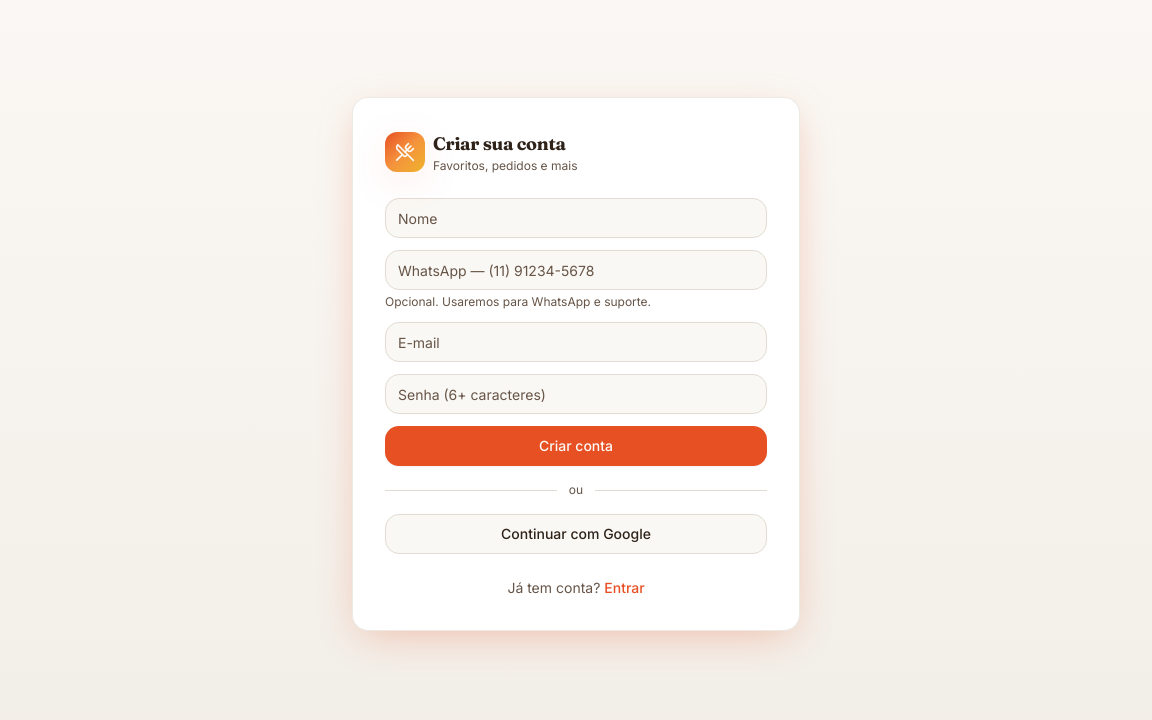
Test: Cadastro — double-click guard on network failure › only calls signUp once even when clicked many times during a slow network failure
Later steps or results of the test are not shown.
In the field with placeholder "Nome": (576, 218) [385,198,767,238], type "Maria Teste"
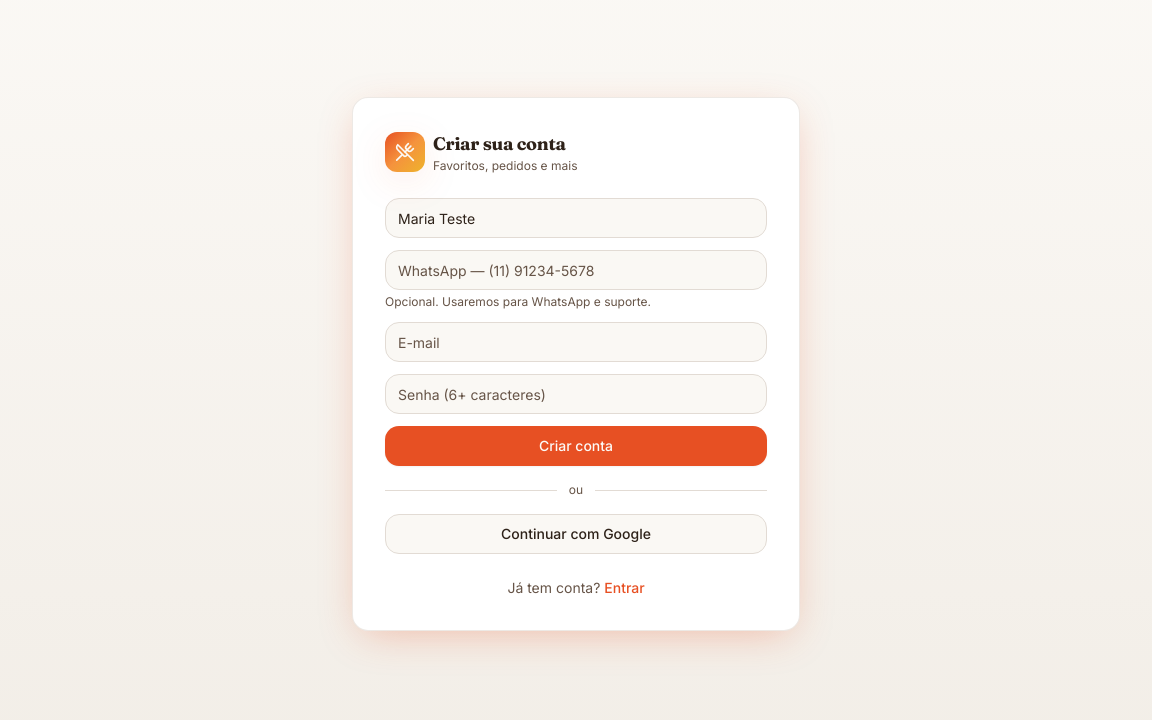
In the field with placeholder "E-mail": (576, 342) [385,322,767,362], type "maria@test.com"
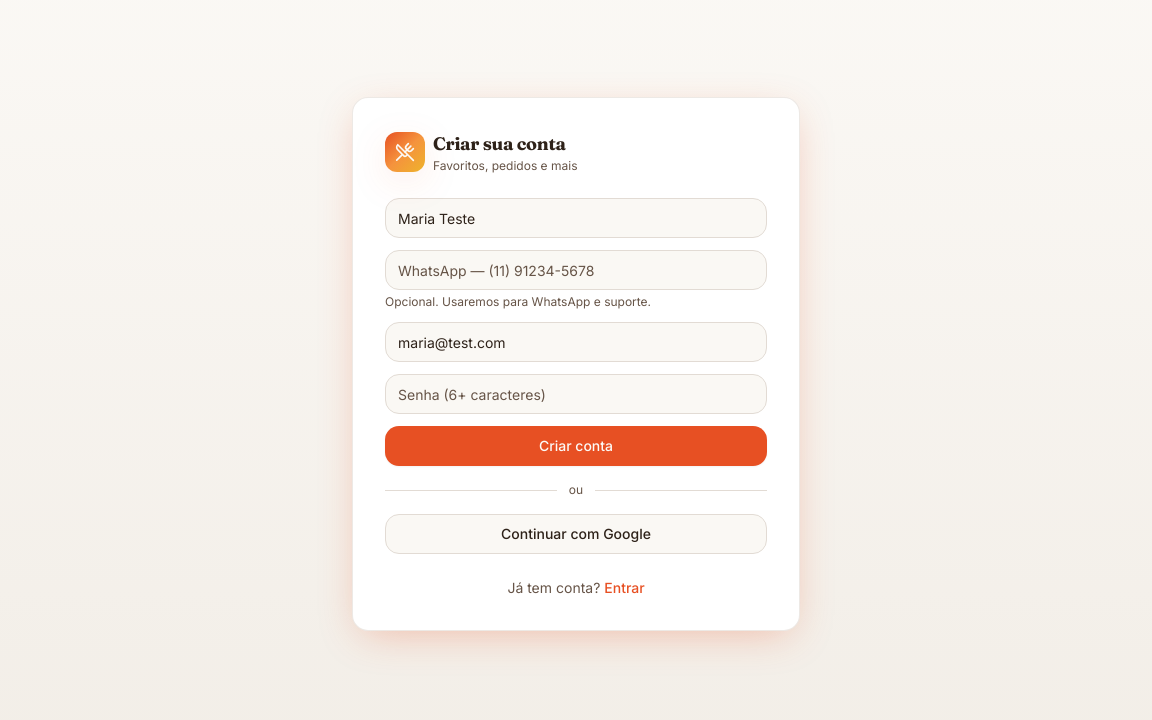
In the password field with placeholder "Senha (6+ caracteres)": (576, 394) [385,374,767,414], type "abcdef"
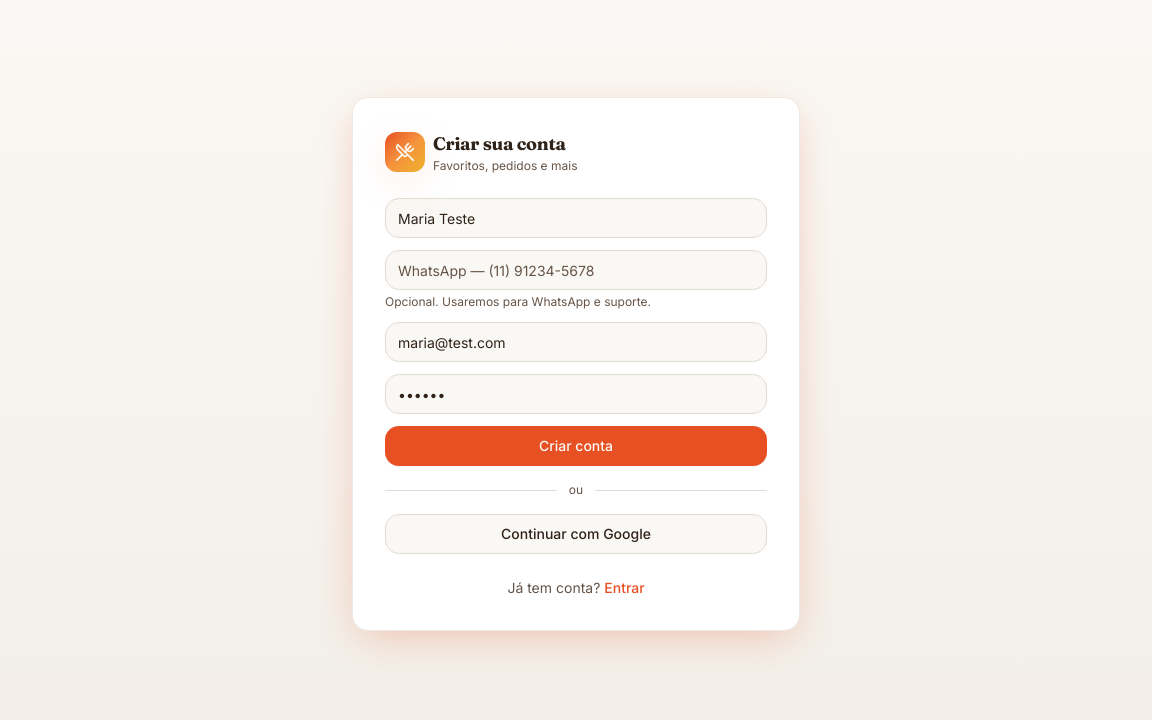
Click the button "Criar conta": (576, 446) [385,426,767,466]
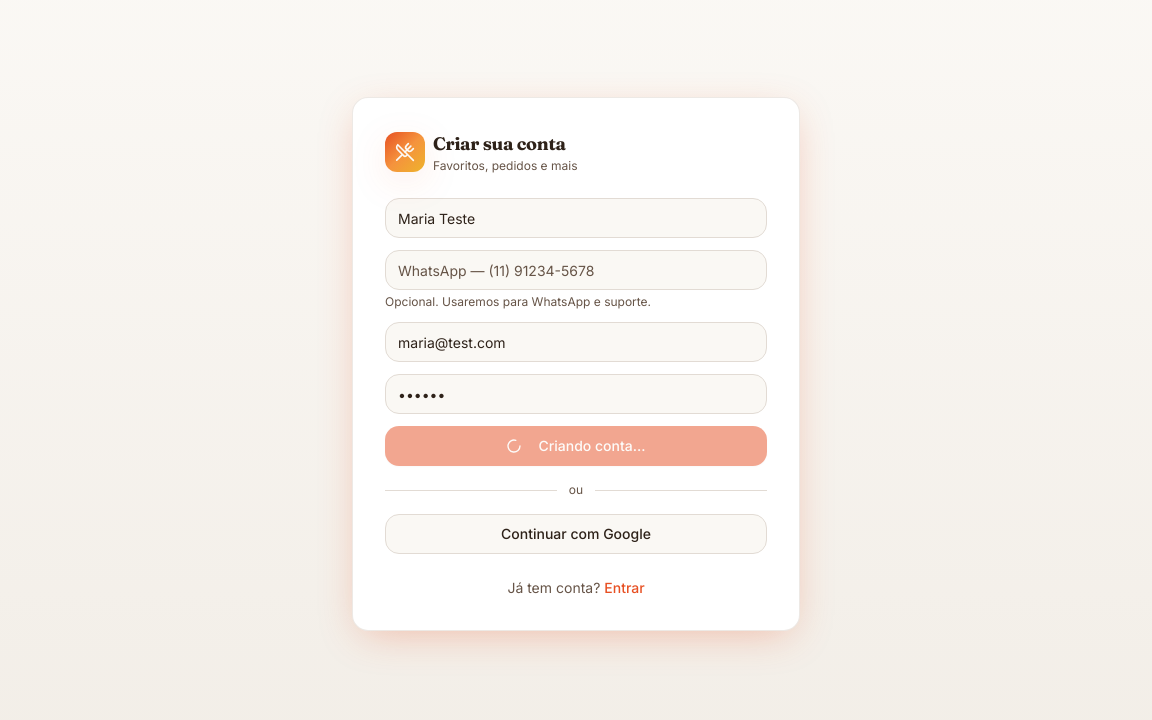
Click the button named "criar conta": (576, 446) [385,426,767,466]
Click the button named "criar conta": (576, 446) [385,426,767,466]
Click the button named "criar conta": (576, 446) [385,426,767,466]
Click the button named "criar conta": (576, 446) [385,426,767,466]
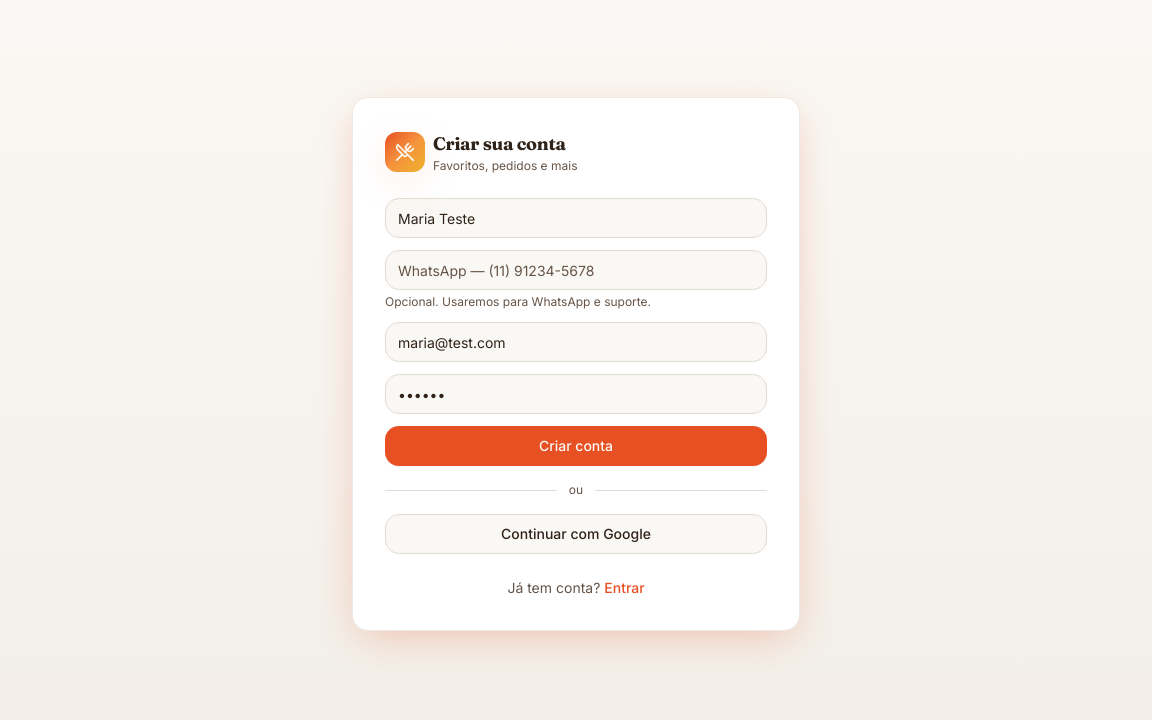
Expected: the button "Criar conta" is enabled, [385,426,767,466]
